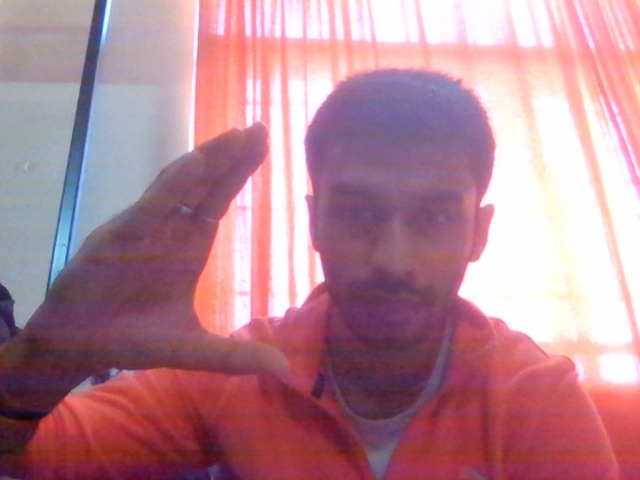C: (27, 96, 300, 430)
